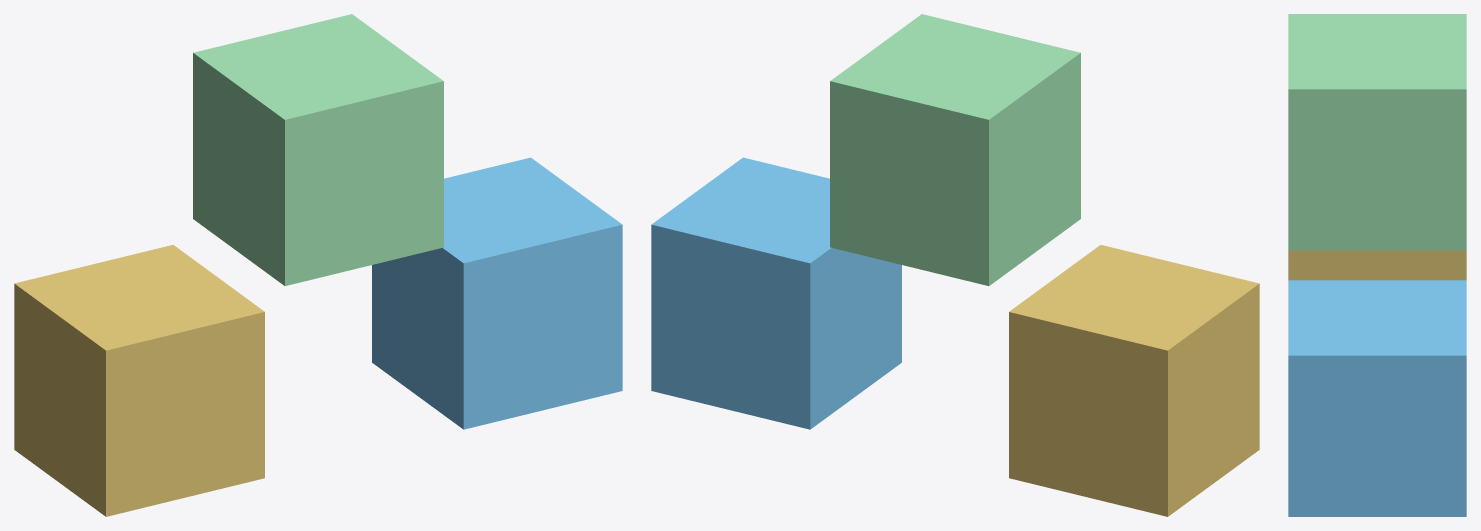
The model's file is indexed.glb.
3 renders of one model, left to right at view 1: azimuth 30°, elevation 25°; view 2: azimuth 150°, elevation 25°; view 3: azimuth 270°, elevation 25°, orthographic. The views are drawn at different scales.
Visible parts, largest first — view 1: Gear (×2), Crown; view 2: Gear (×2), Crown; view 3: Gear (×2), Crown.
Boxes of the visible parts, x1,y1,x2,y2 form: Gear (×2): (193,14,622,429); Crown: (14,245,264,516); Gear (×2): (651,14,1080,429); Crown: (1009,245,1259,516); Gear (×2): (1288,14,1466,516); Crown: (1288,250,1466,280).
Size of the model in its own units: 2.6 by 1.7 by 0.8.
